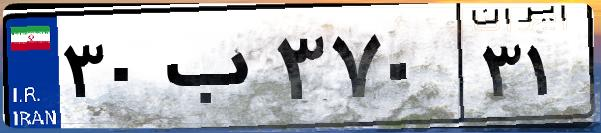0: (385, 28, 445, 110), (110, 28, 158, 98)
1: (525, 38, 570, 115)
3: (270, 28, 330, 110), (57, 26, 110, 100), (475, 38, 525, 113)
7: (330, 28, 385, 110)
ب: (158, 20, 270, 120)
